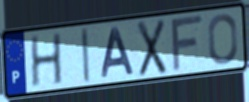A: (100, 26, 137, 80)
F: (170, 12, 205, 74)
H: (29, 31, 65, 89)
I: (79, 26, 92, 86)
O: (207, 12, 239, 67)
X: (135, 17, 168, 80)
